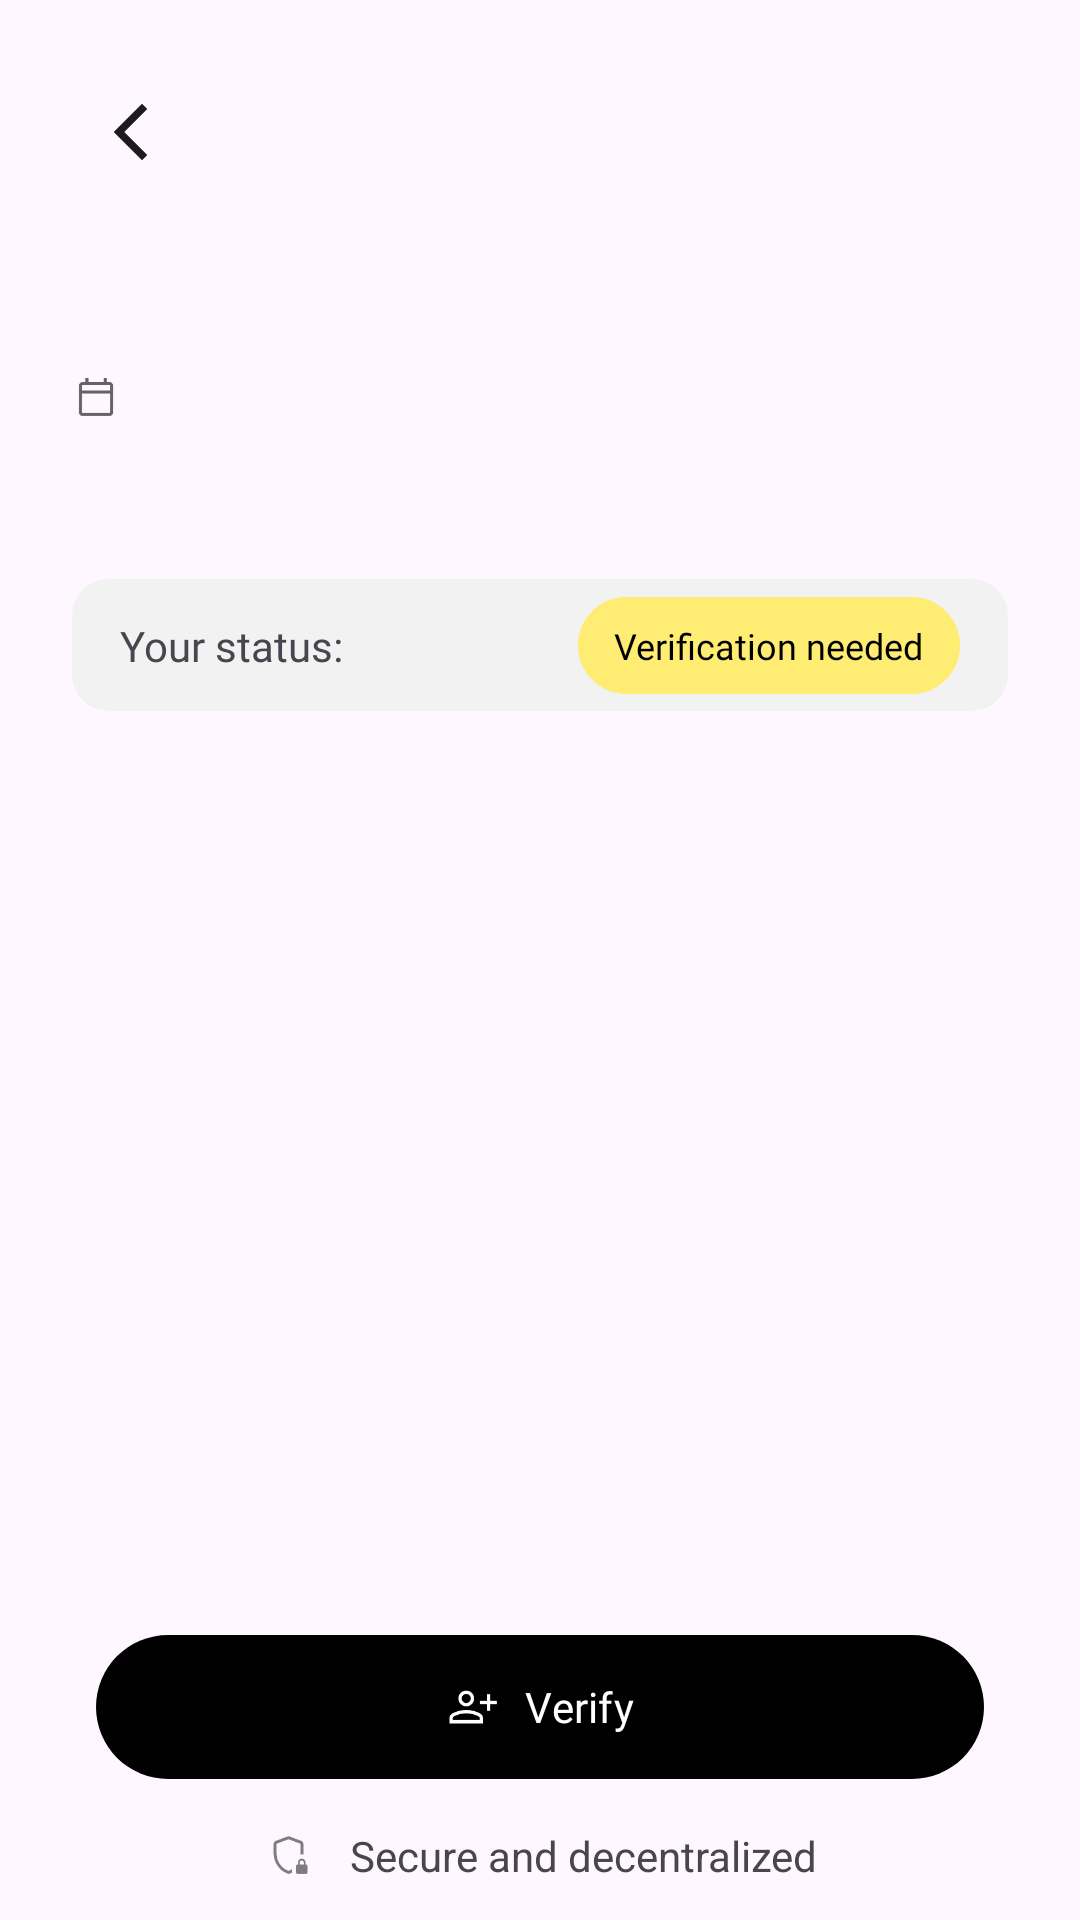

Where to tap for icons on this 1080×1920 app screen, as [x,y]:
arrow back: [130,132]
